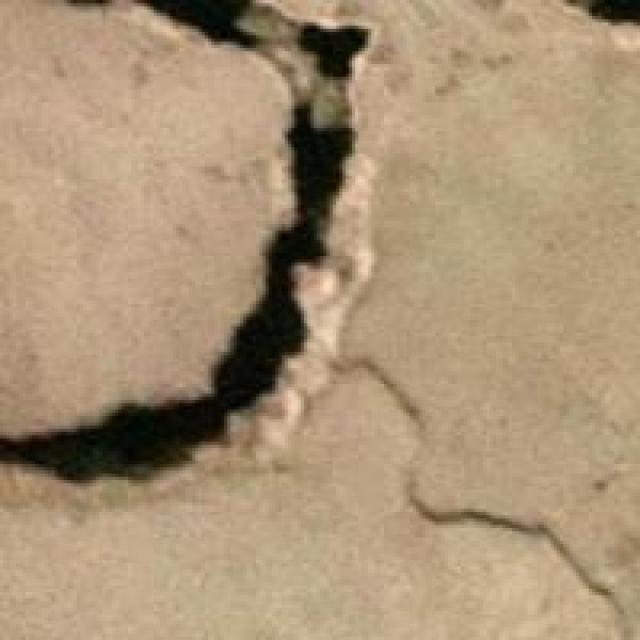Crack: (0, 0, 637, 528)
